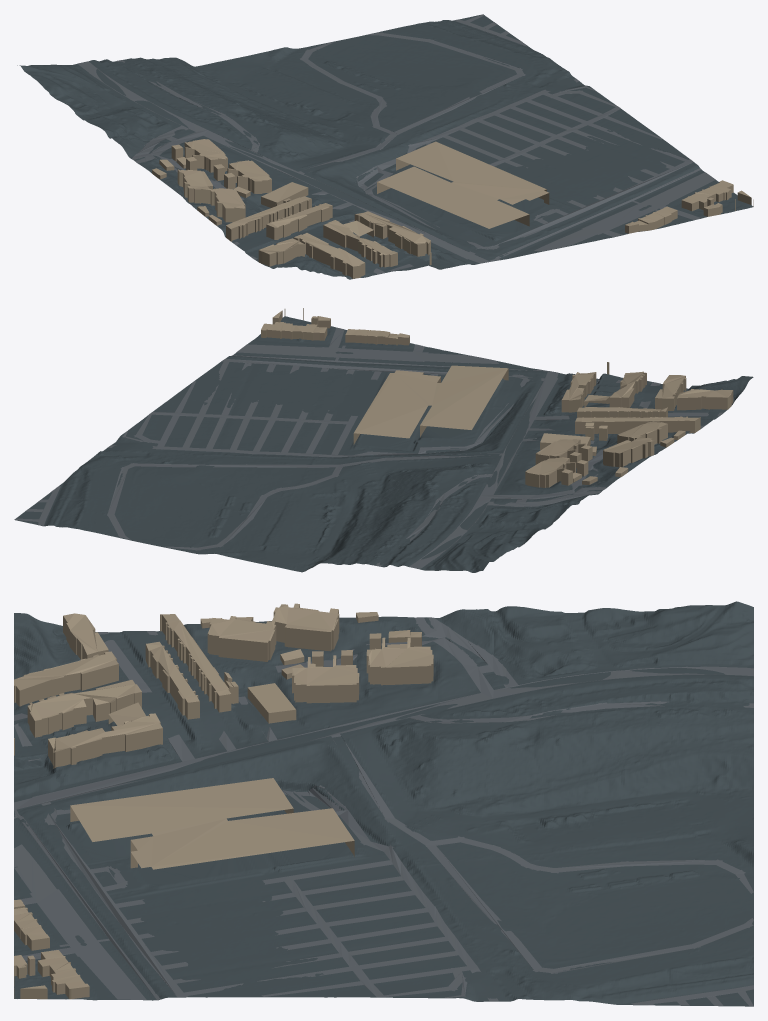
File: epsg26910-1434-10868.lod0.glb
The picture shows the model from 3 angles, top to bottom: view 1: azimuth 30°, elevation 25°; view 2: azimuth 150°, elevation 25°; view 3: azimuth 270°, elevation 25°; orthographic projection. The views are drawn at different scales.
Visible parts, largest first — view 1: epsg26910-1434-10868-lod0; view 2: epsg26910-1434-10868-lod0; view 3: epsg26910-1434-10868-lod0.
Boxes of the visible parts, x1,y1,x2,y2 form: epsg26910-1434-10868-lod0: (17,14,753,279); epsg26910-1434-10868-lod0: (14,308,753,572); epsg26910-1434-10868-lod0: (14,601,753,1006).
Size of the model in its own units: 384 by 52.98 by 384.
